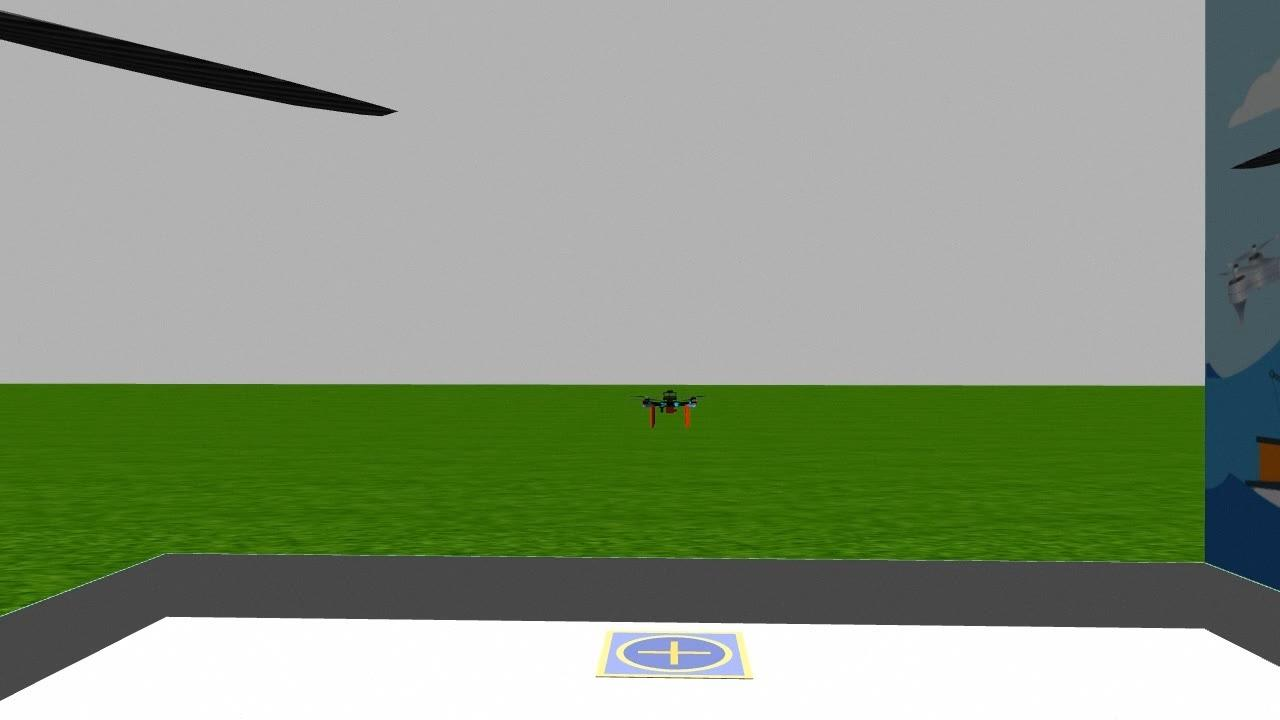UAV: (627, 375, 722, 456)
